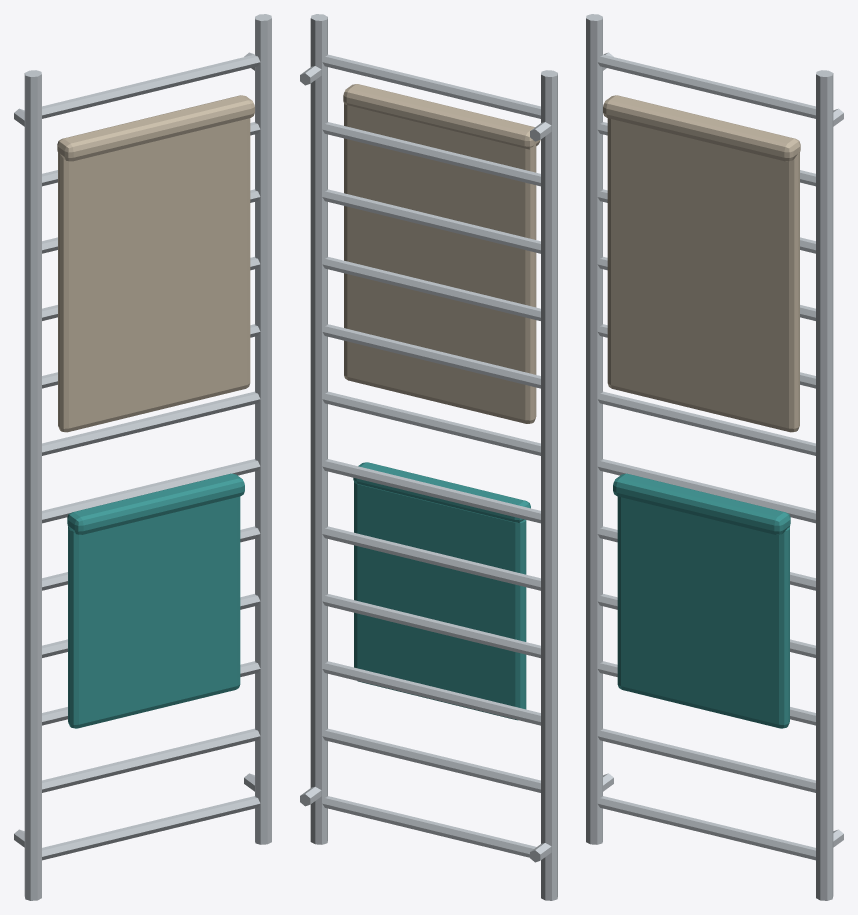
File: towel_rack.glb
3 views of the same model, side by side, from view 1: azimuth 30°, elevation 25°; view 2: azimuth 150°, elevation 25°; view 3: azimuth 330°, elevation 25° (orthographic).
Visible parts, largest first — view 1: towel_rack_Body; view 2: towel_rack_Body; view 3: towel_rack_Body.
Part boxes in pixels (left/top/right/bottom): towel_rack_Body: left=14, top=14, right=271, bottom=900; towel_rack_Body: left=300, top=14, right=557, bottom=900; towel_rack_Body: left=586, top=14, right=843, bottom=900.
Bounding box in the file's own units: 0.5 × 1.6 × 0.1.
